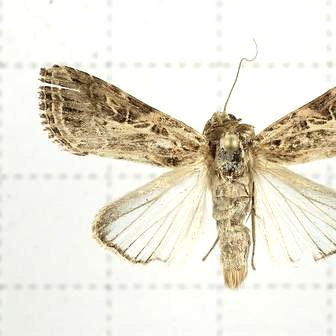Spodoptera litura: (37, 36, 335, 290)
